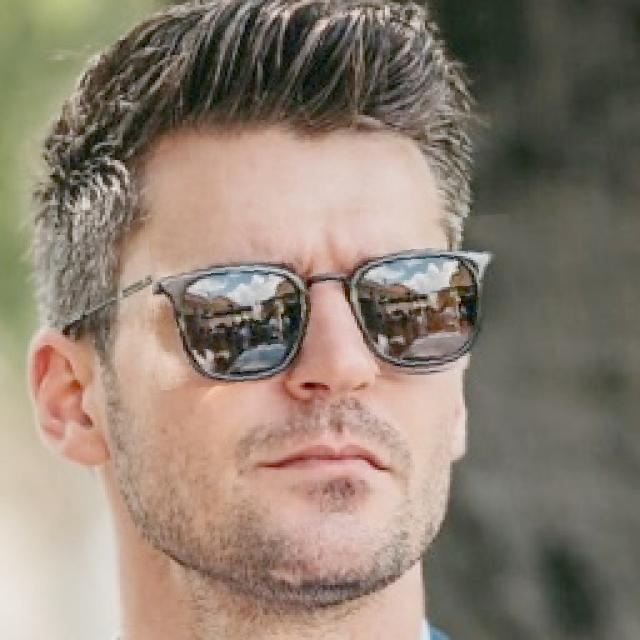glasses: (151, 220, 517, 384)
